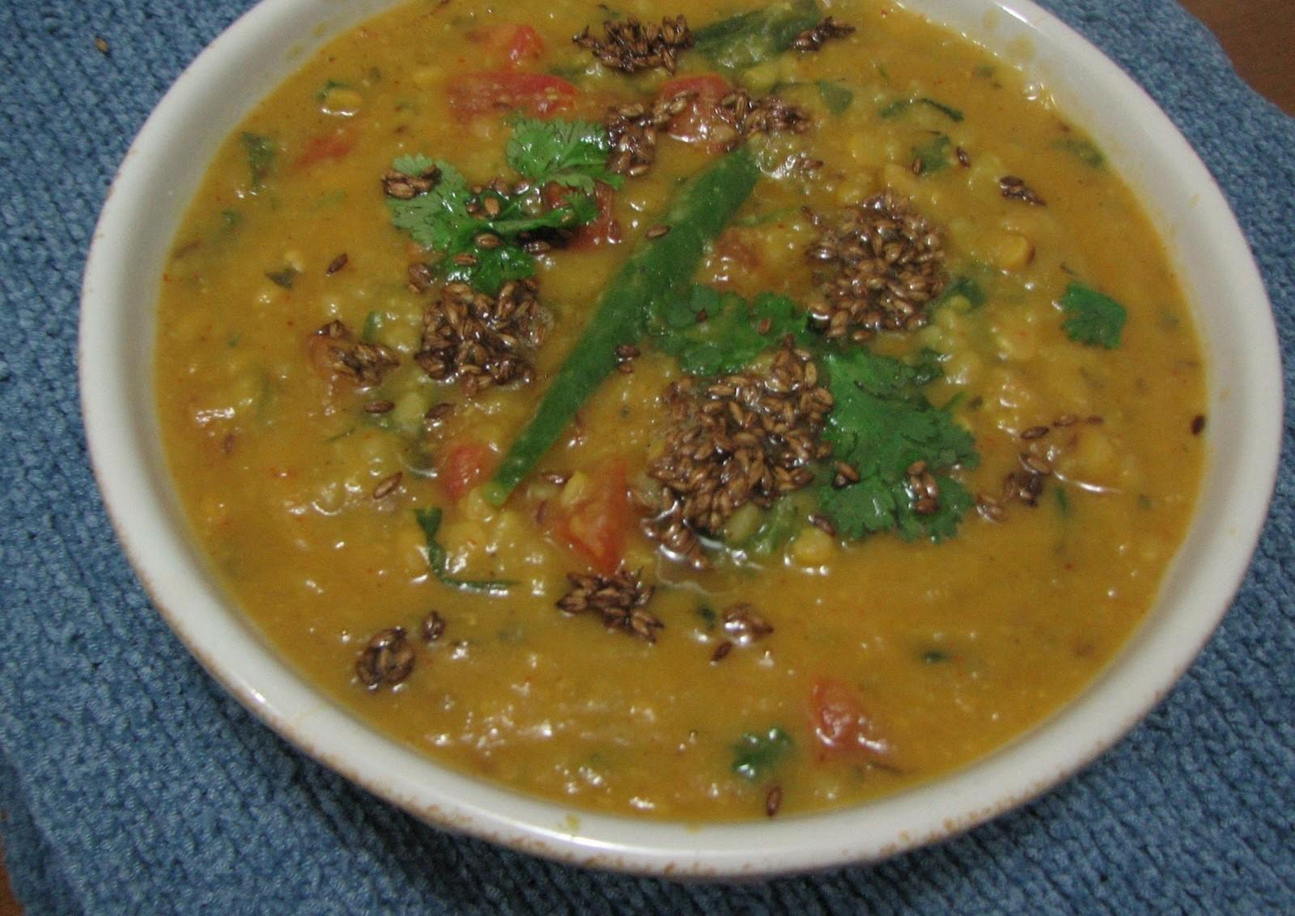Dal: (155, 0, 1197, 824)
